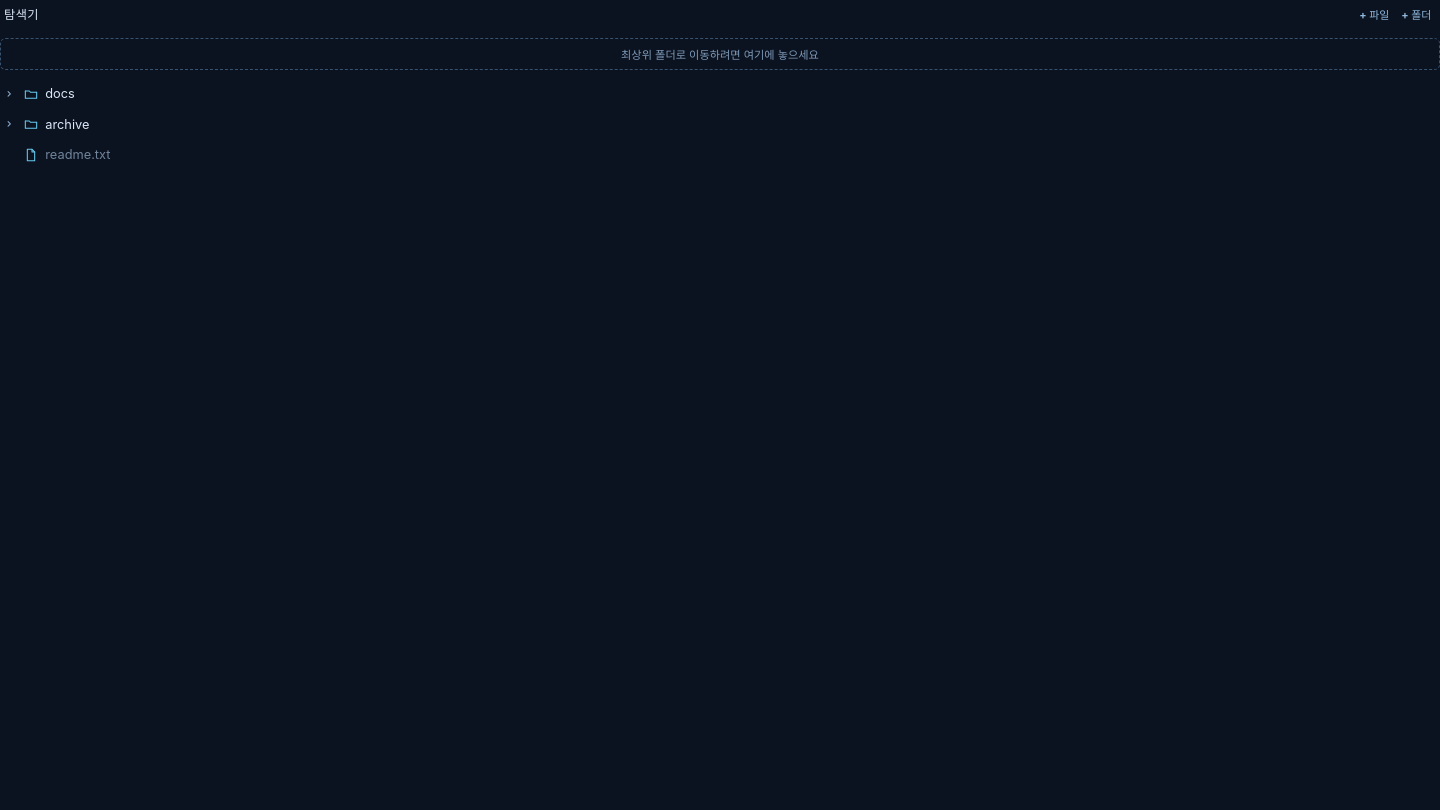
WorkspaceExplorer › uses an in-app create dialog for toolbar and context actions
Click the button "+ 파일" at (1374, 14), box [1354,2,1394,26]
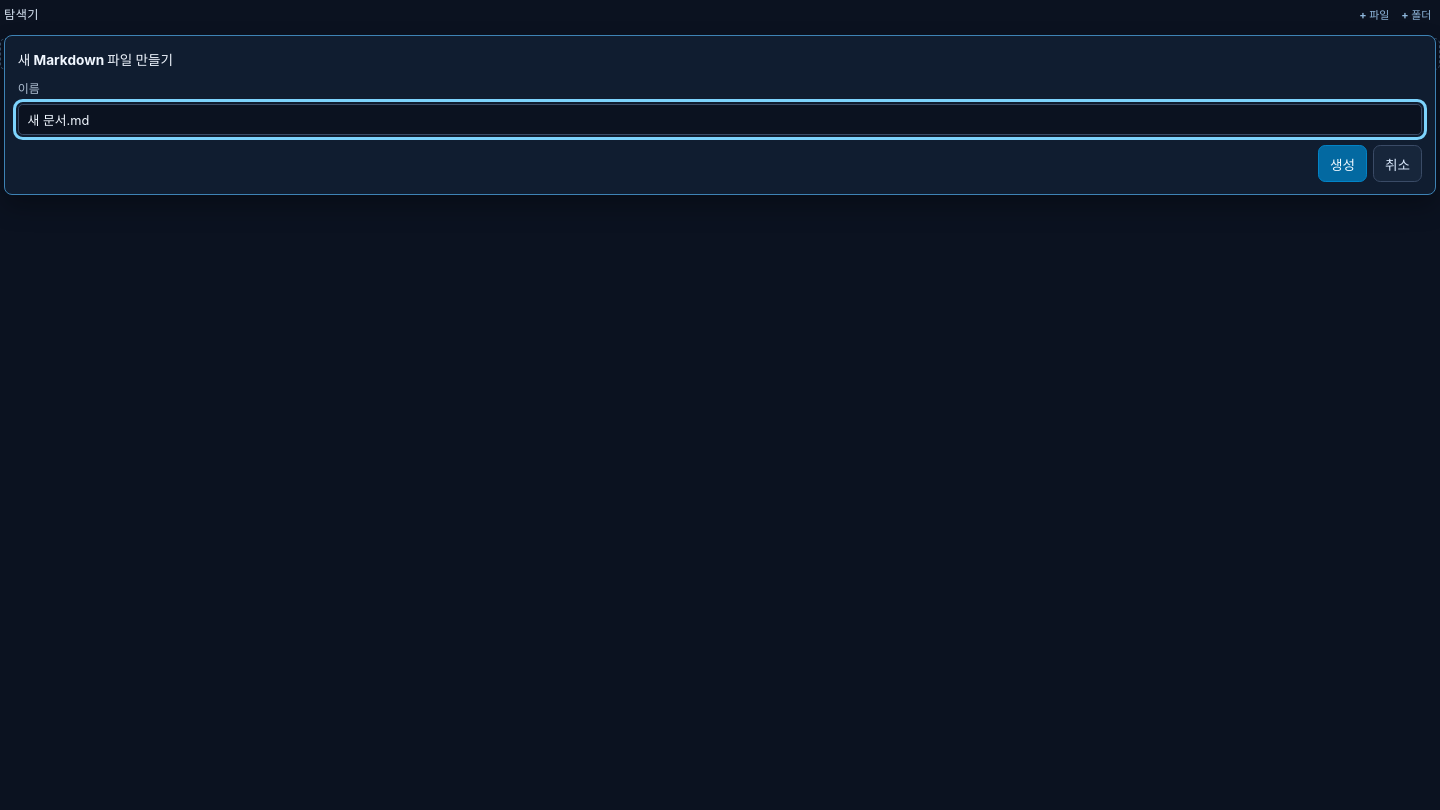
Replace the text in the field labelled "이름" with "new.md" at (720, 119), box [18,104,1422,135]
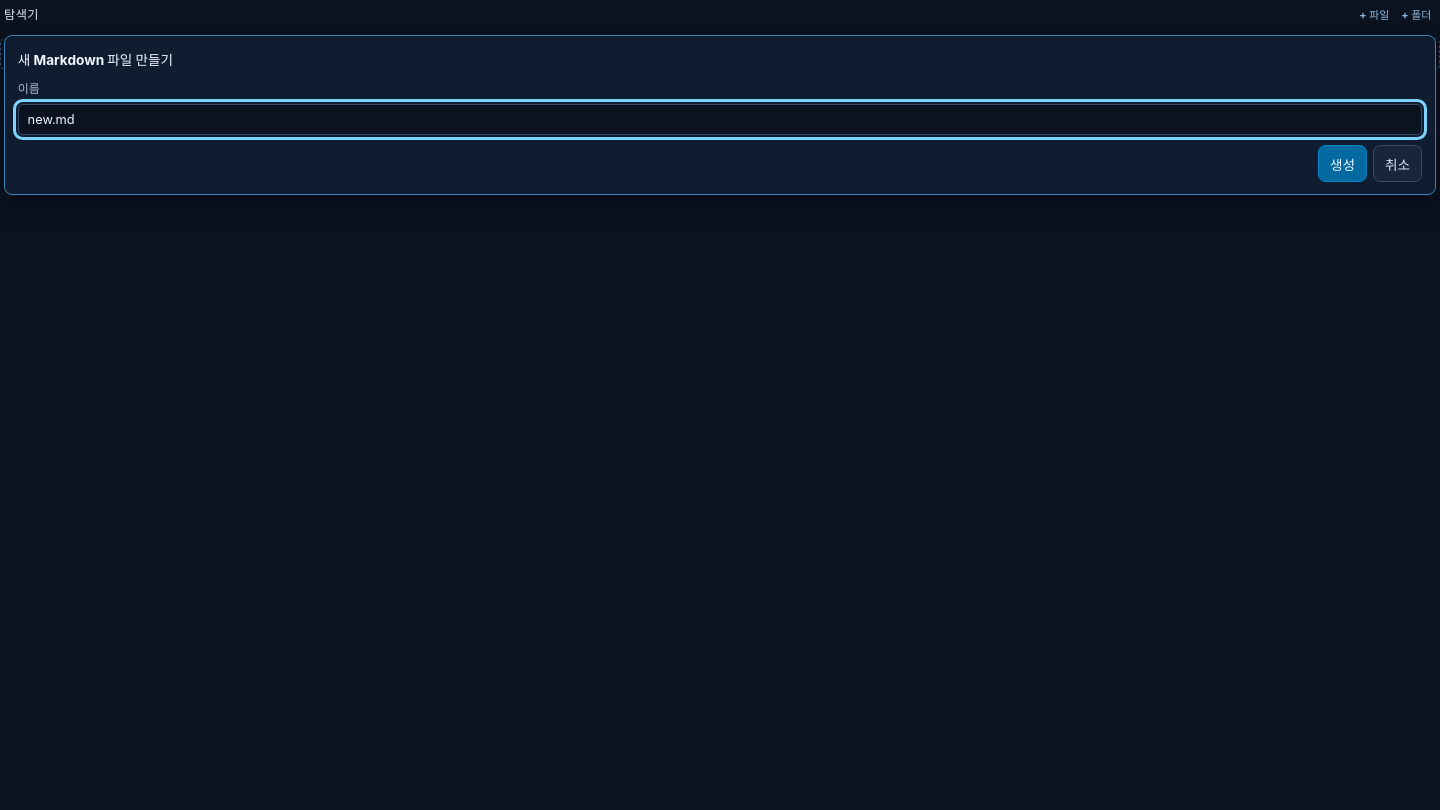
Click the button "생성" at (1342, 164), box [1318,145,1367,182]
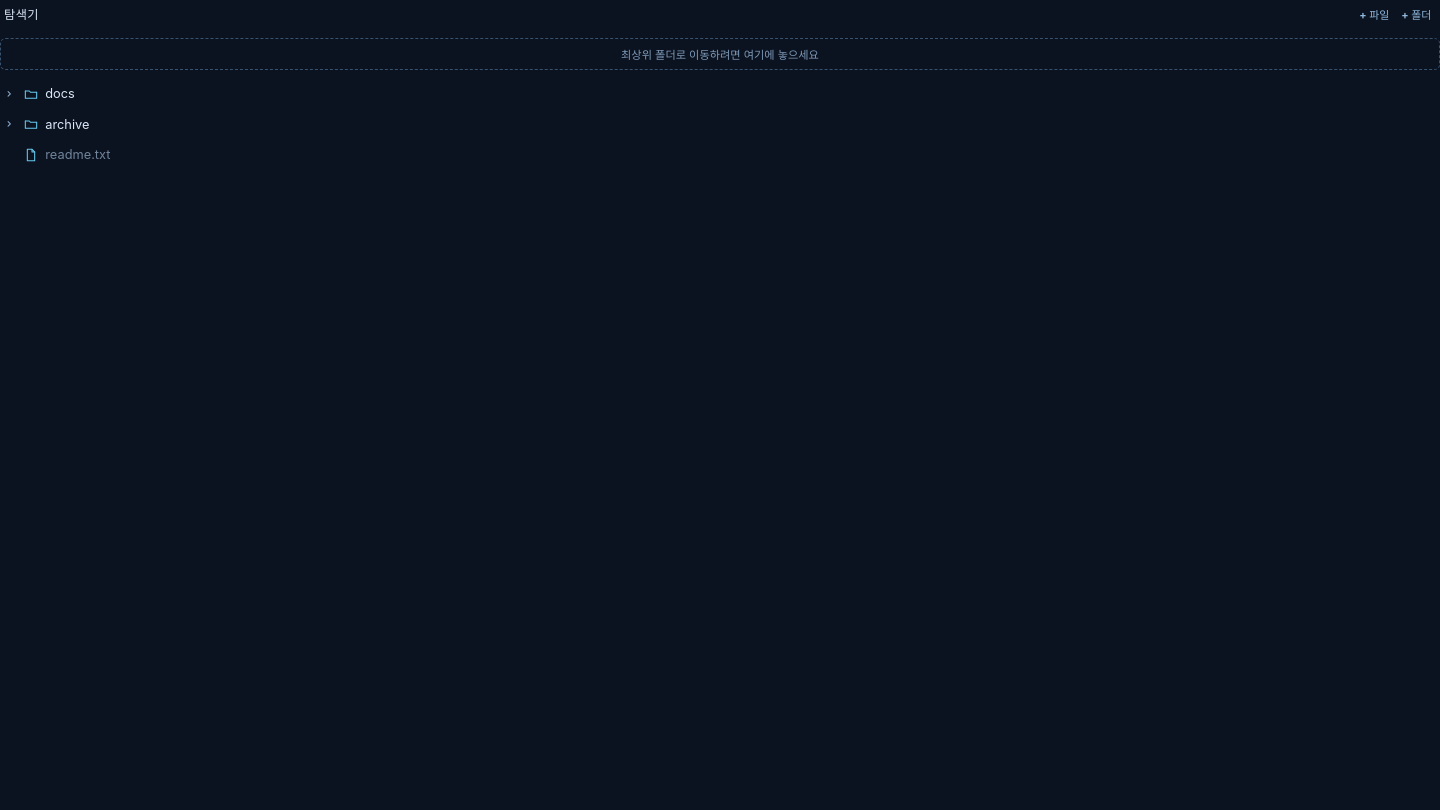
expect the dialog is gone: met
Right-click the button "docs" at (31, 94), box [20,82,1268,106]
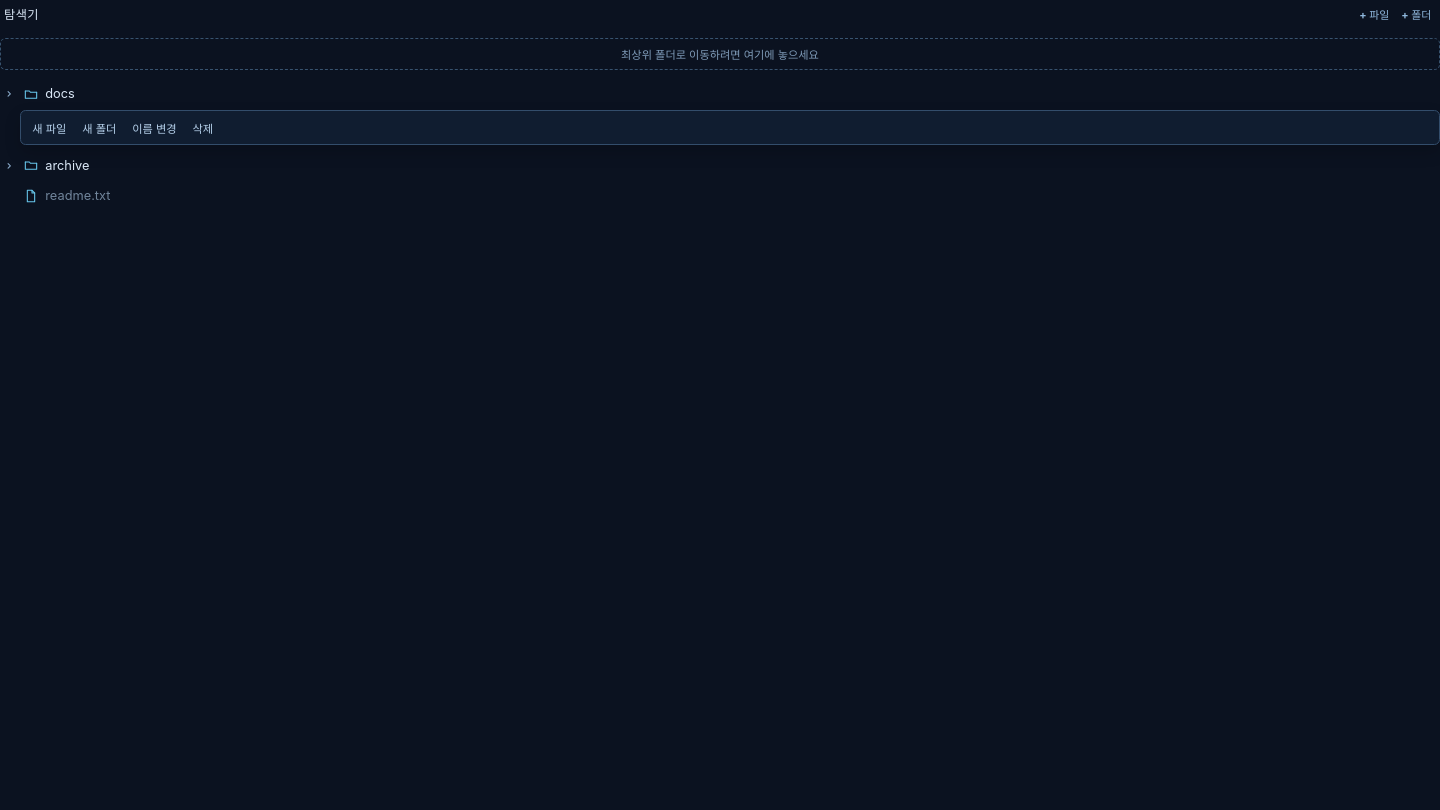
Click the menu item "새 파일" at (49, 128), box [26,116,73,140]
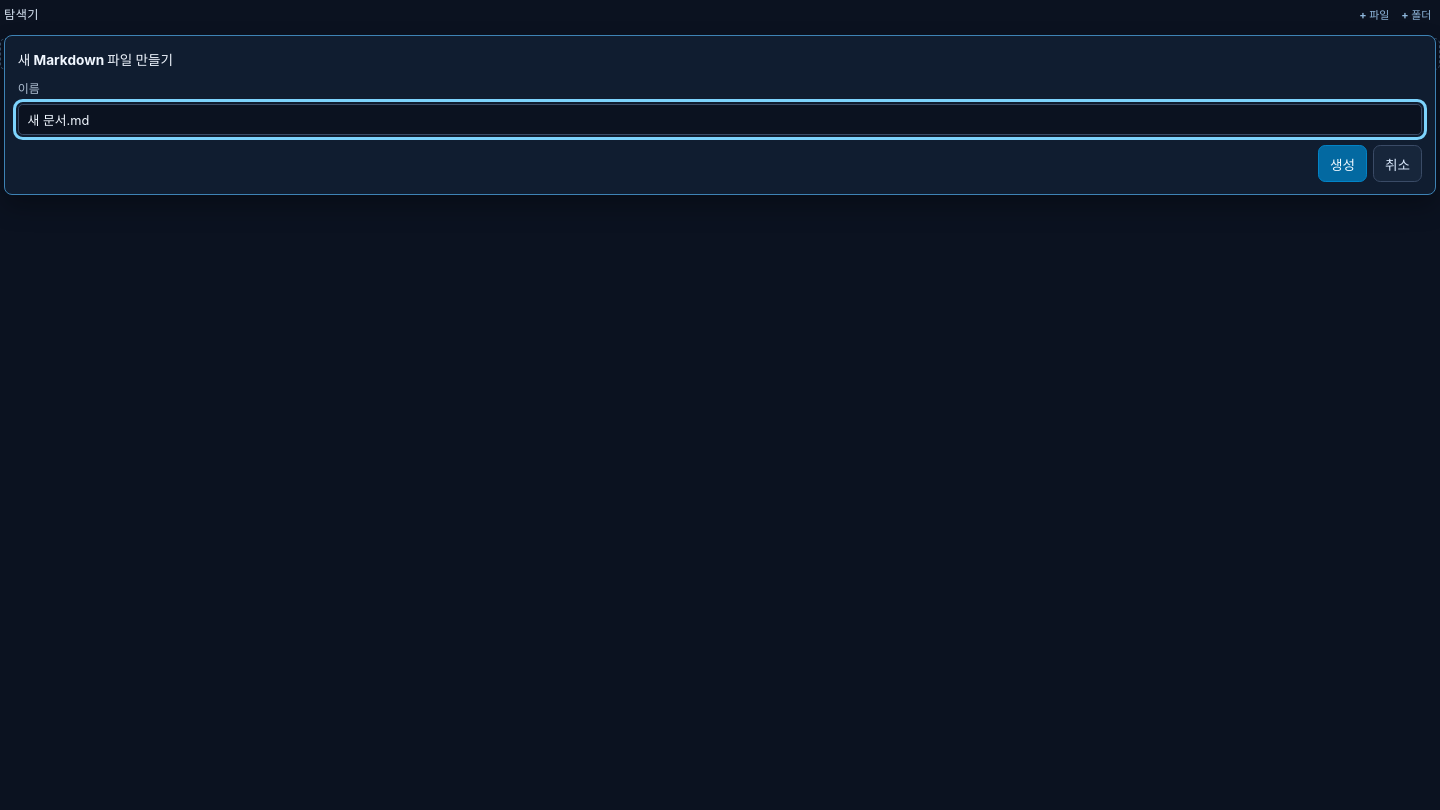
expect the dialog "새 Markdown 파일 만들기" is shown: met, box [4,35,1436,196]
